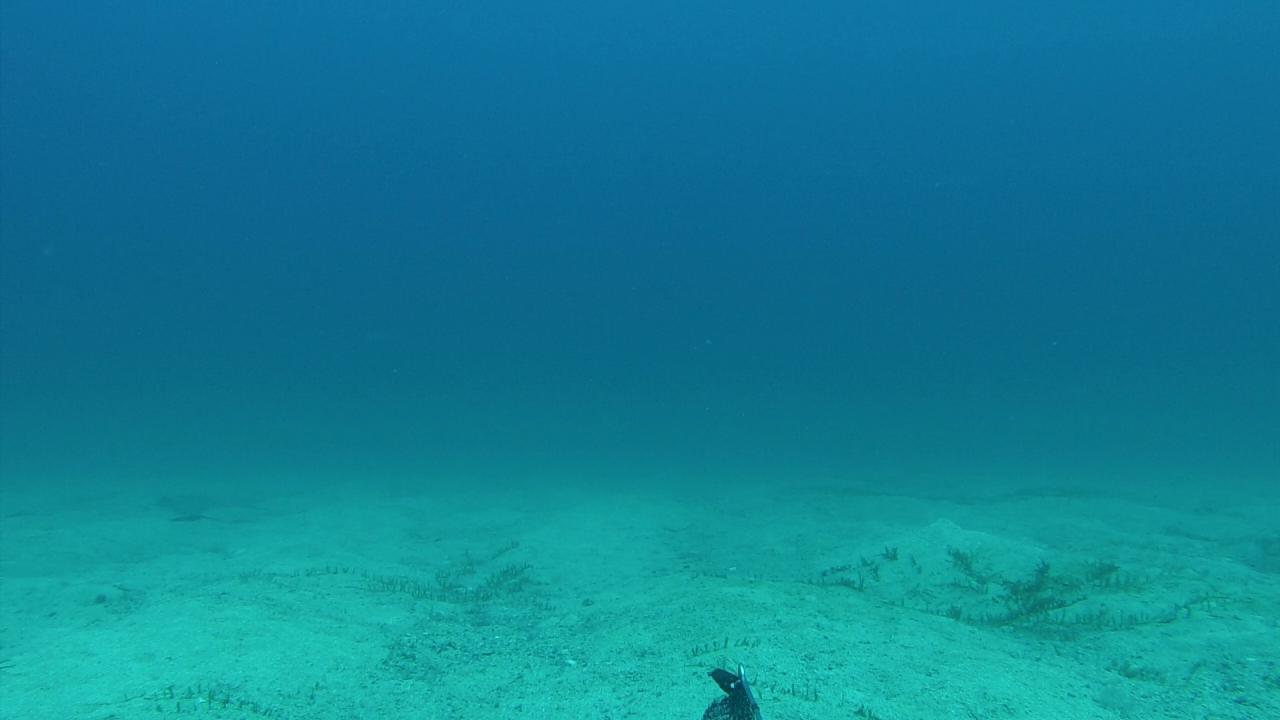dasyatis: (150, 490, 272, 518)
